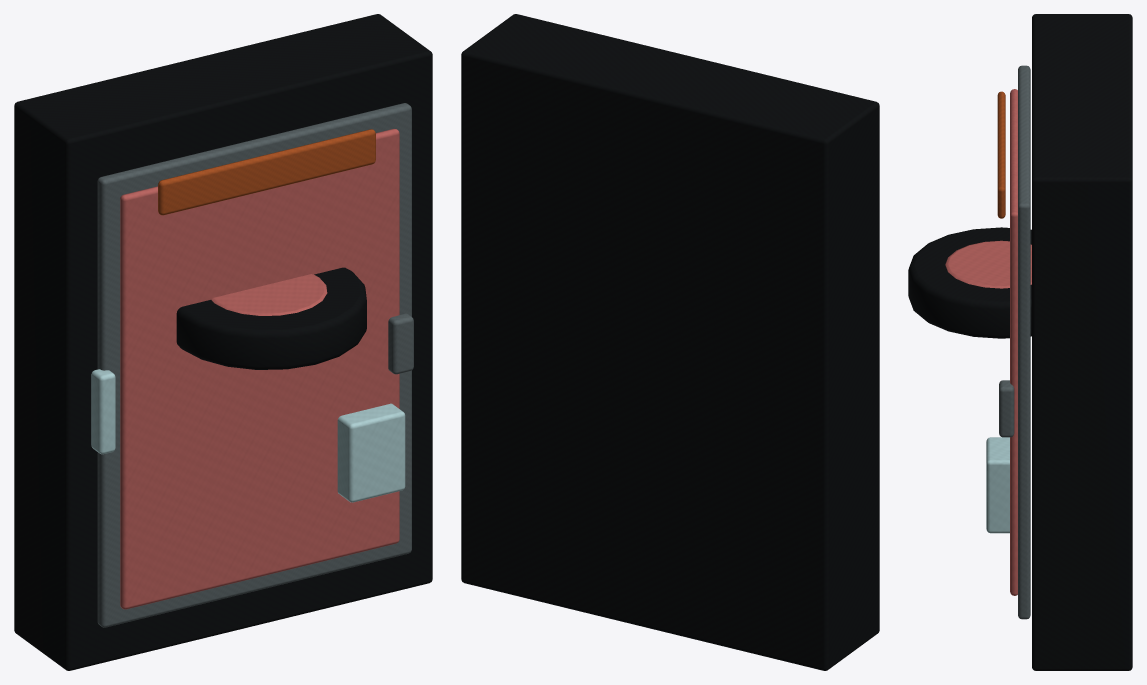
The model's file is WallFireHose.fbx.
The picture shows the model from 3 angles, left to right: view 1: azimuth 30°, elevation 25°; view 2: azimuth 150°, elevation 25°; view 3: azimuth 270°, elevation 25°; orthographic projection. The views are drawn at different scales.
Parts seen in each view (by area): view 1: WallFireHose_Mesh; view 2: WallFireHose_Mesh; view 3: WallFireHose_Mesh.
Part boxes in pixels (<box>): WallFireHose_Mesh: <box>14,14,432,670</box>; WallFireHose_Mesh: <box>461,14,879,670</box>; WallFireHose_Mesh: <box>908,14,1132,670</box>.
Size of the model in its own units: 78 by 108 by 44.5.
